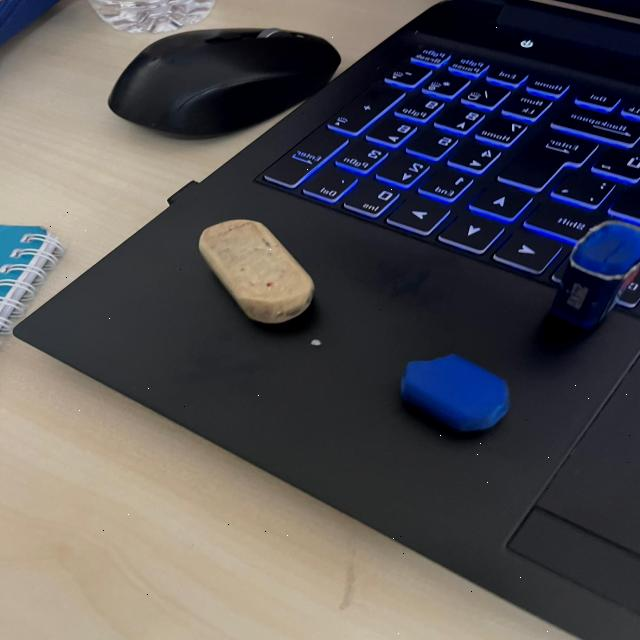eraser: (190, 206, 330, 336), (543, 215, 640, 341), (389, 346, 520, 434)
